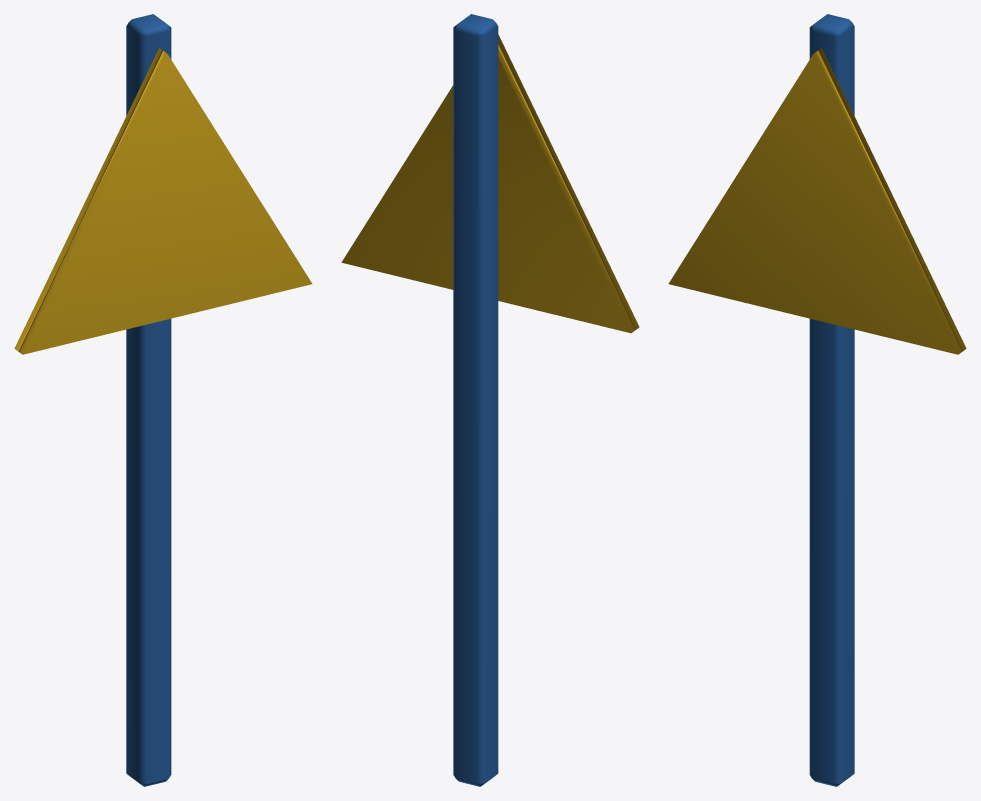
File: ice_marker.glb
The picture shows the model from 3 angles, left to right: view 1: azimuth 30°, elevation 25°; view 2: azimuth 150°, elevation 25°; view 3: azimuth 330°, elevation 25°; orthographic projection.
Visible parts, largest first — view 1: ice_marker; view 2: ice_marker; view 3: ice_marker.
Boxes of the visible parts, x1=… form: ice_marker: x1=14, y1=14, x2=312, y2=786; ice_marker: x1=341, y1=14, x2=639, y2=786; ice_marker: x1=668, y1=14, x2=966, y2=786.
Size of the model in its own units: 0.8 by 2 by 0.135.
